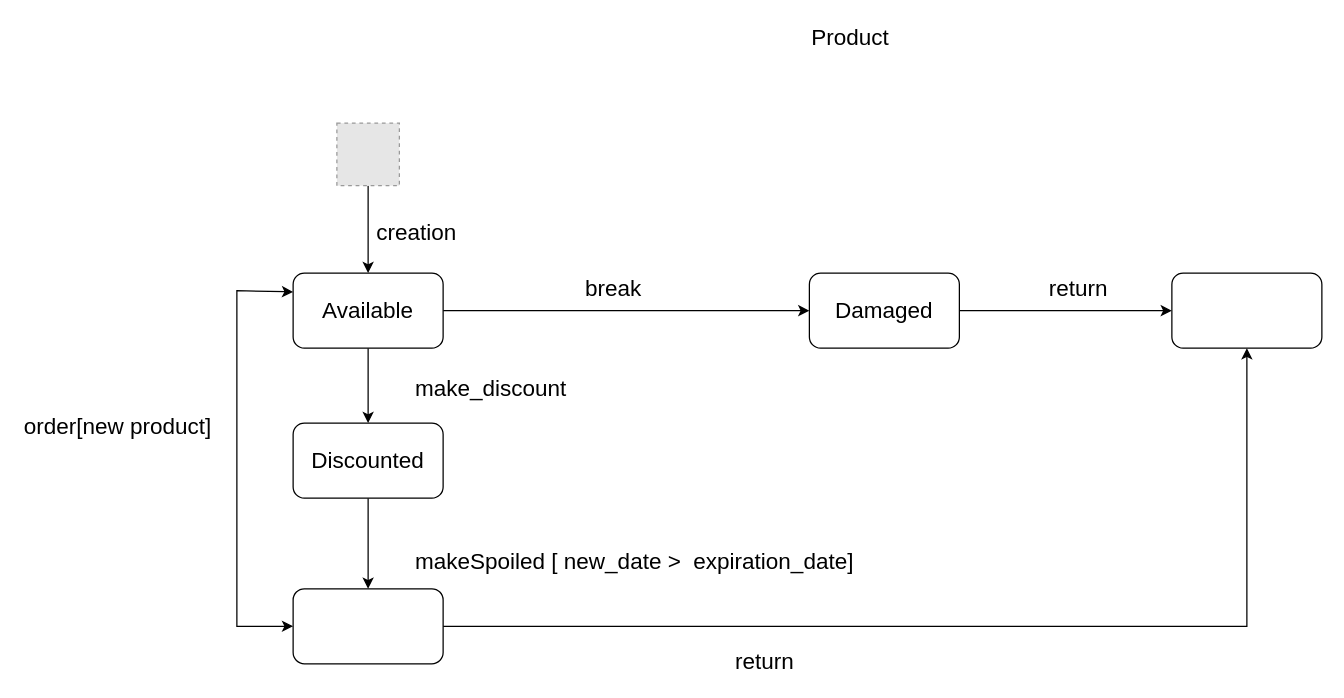
Some shapes in this 1344 by 698 pixel diagram are drawn without their labels. Grey dashed boxes stand in for pictures. The shapes that lost their labels are listed below. From the top down, each one's centre as x and y in pixels, then its label:
At [1246,310]: "Returned".
At [367,626]: "Expired".
